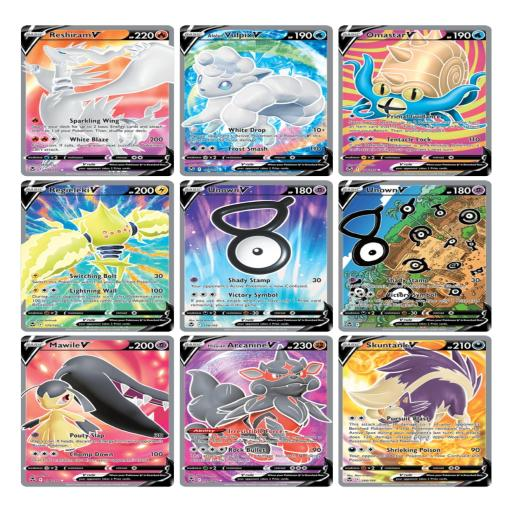card: (338, 180, 491, 332), (338, 335, 491, 487), (20, 180, 174, 331), (21, 335, 173, 487), (21, 25, 174, 176), (180, 25, 332, 176), (339, 25, 491, 176), (180, 180, 332, 331), (180, 336, 333, 486)
